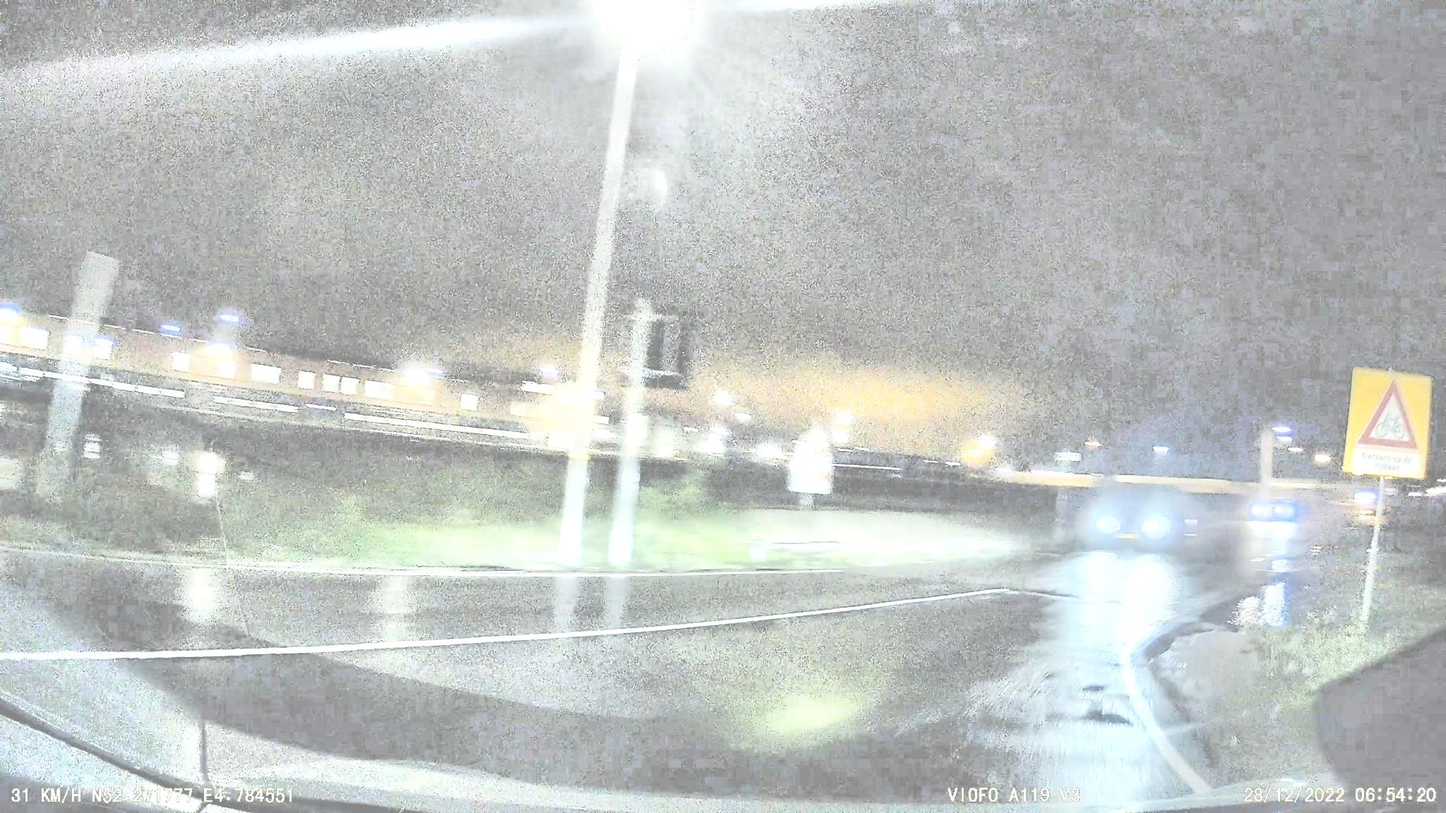Roads: (0, 523, 1342, 813)
